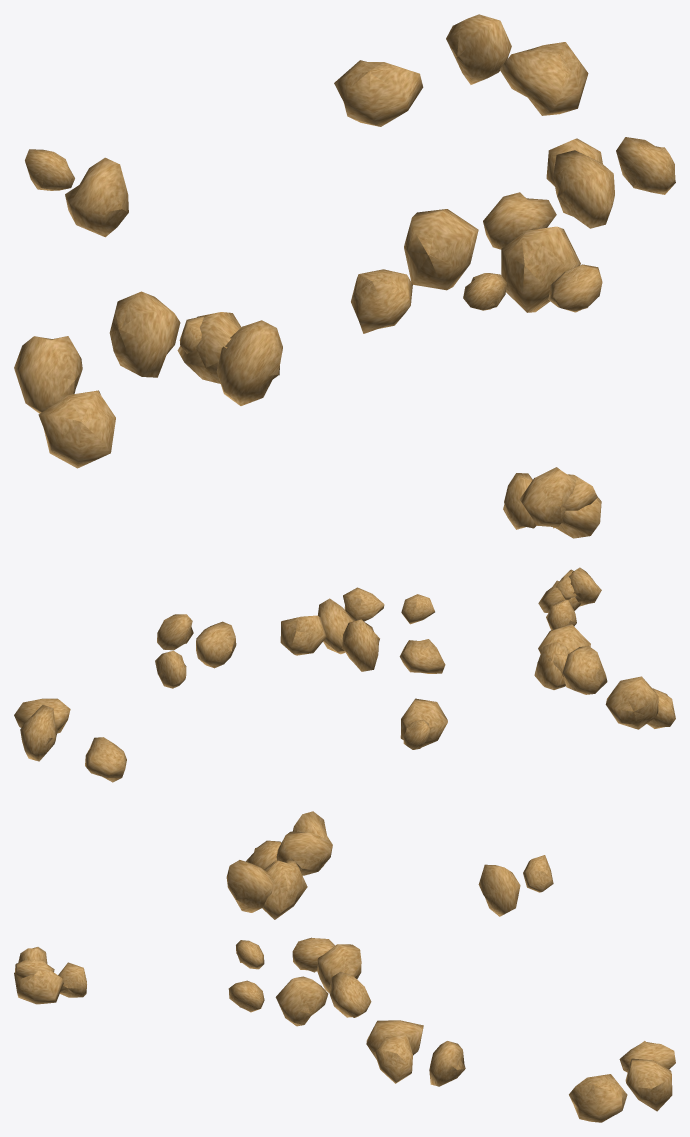
The model's file is _pedacos_pacoca.glb.
3 views of the same model, one above another, from view 1: azimuth 30°, elevation 25°; view 2: azimuth 150°, elevation 25°; view 3: azimuth 270°, elevation 25° (orthographic). The views are drawn at different scales.
Parts seen in each view (by area): view 1: _pedacos_pacoca_6, _pedacos_pacoca_4, _pedacos_pacoca_2, _pedacos_pacoca_7, _pedacos_pacoca_5, _pedacos_pacoca_0, _pedacos_pacoca_3, _pedacos_pacoca_1; view 2: _pedacos_pacoca_6, _pedacos_pacoca_4, _pedacos_pacoca_2, _pedacos_pacoca_5, _pedacos_pacoca_7, _pedacos_pacoca_0, _pedacos_pacoca_1, _pedacos_pacoca_3; view 3: _pedacos_pacoca_6, _pedacos_pacoca_2, _pedacos_pacoca_4, _pedacos_pacoca_5, _pedacos_pacoca_0, _pedacos_pacoca_3, _pedacos_pacoca_1, _pedacos_pacoca_7.
Part boxes in pixels (x1,y1,x2,y2): _pedacos_pacoca_6: (404, 192, 602, 312); _pedacos_pacoca_4: (334, 14, 588, 126); _pedacos_pacoca_2: (109, 291, 282, 405); _pedacos_pacoca_7: (14, 336, 115, 468); _pedacos_pacoca_5: (546, 137, 675, 228); _pedacos_pacoca_0: (503, 467, 601, 538); _pedacos_pacoca_3: (25, 149, 128, 237); _pedacos_pacoca_1: (351, 269, 506, 333); _pedacos_pacoca_6: (280, 587, 384, 671); _pedacos_pacoca_4: (14, 698, 126, 782); _pedacos_pacoca_2: (534, 623, 607, 694); _pedacos_pacoca_5: (155, 614, 236, 688); _pedacos_pacoca_7: (605, 676, 675, 729); _pedacos_pacoca_0: (538, 567, 601, 630); _pedacos_pacoca_1: (399, 594, 445, 673); _pedacos_pacoca_3: (400, 698, 447, 749); _pedacos_pacoca_6: (228, 944, 371, 1026); _pedacos_pacoca_2: (226, 831, 330, 919); _pedacos_pacoca_4: (569, 1041, 675, 1122); _pedacos_pacoca_5: (366, 1020, 465, 1086); _pedacos_pacoca_0: (14, 947, 86, 1004); _pedacos_pacoca_3: (478, 855, 553, 916); _pedacos_pacoca_1: (236, 937, 334, 972); _pedacos_pacoca_7: (246, 811, 332, 869).
Bounding box in the file's own units: 0.7115 × 0.1317 × 0.7799.
Materials: 1 (1 with a texture image).
